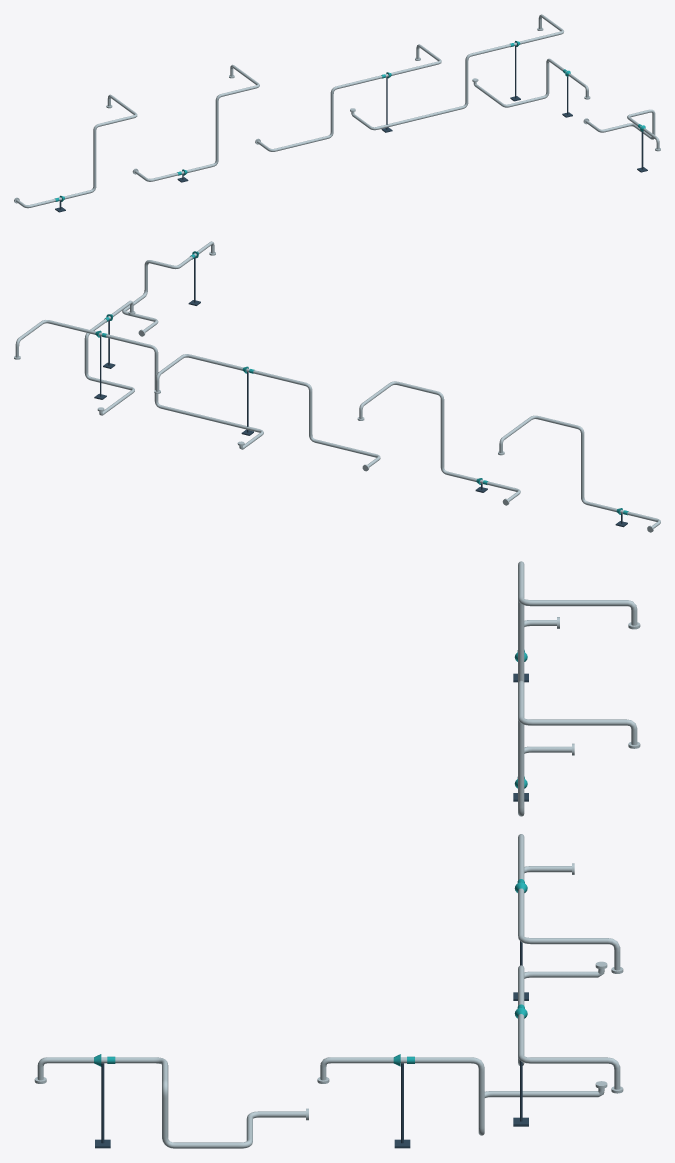
Rendered from 贵金属分离产线-连接管道.glb.
The picture shows the model from 3 angles, top to bottom: view 1: azimuth 30°, elevation 25°; view 2: azimuth 150°, elevation 25°; view 3: azimuth 270°, elevation 25°; orthographic projection. The views are drawn at different scales.
Parts seen in each view (by area): view 1: pipe_22, pipe_15, pipe_8, pipe_1, pipe_29, pipe_36; view 2: pipe_22, pipe_15, pipe_8, pipe_1, pipe_29, pipe_36; view 3: pipe_36, pipe_29, pipe_8, pipe_22, pipe_1, pipe_15.
Part boxes in pixels (x1,y1,x2,y2): pipe_22: (351,14,563,130); pipe_15: (257,44,441,151); pipe_8: (134,64,259,181); pipe_1: (16,94,137,208); pipe_29: (473,58,588,107); pipe_36: (585,109,659,149); pipe_22: (15,320,263,449); pipe_15: (155,354,380,467); pipe_8: (359,381,520,501); pipe_1: (499,415,660,528); pipe_29: (84,300,134,415); pipe_36: (122,241,214,332); pipe_36: (37,1057,305,1148); pipe_29: (320,1057,604,1135); pipe_8: (518,680,637,816); pipe_22: (518,965,620,1089); pipe_1: (518,561,637,683); pipe_15: (518,834,620,970).
Bounding box in the file's own units: 22.19 × 3.01 × 10.71.
